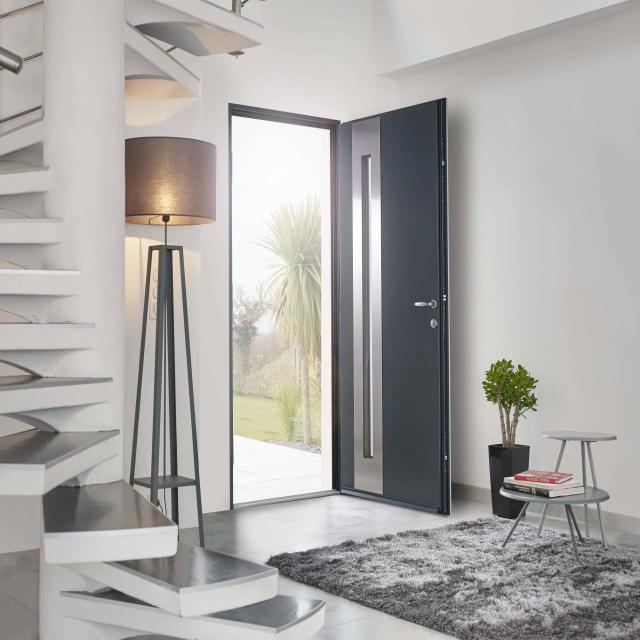open: (217, 88, 455, 526)
